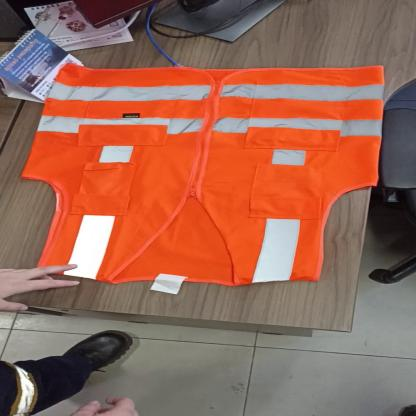colete: (22, 58, 384, 285)
